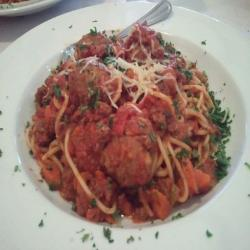bolonese_pasta: (30, 24, 235, 232)
